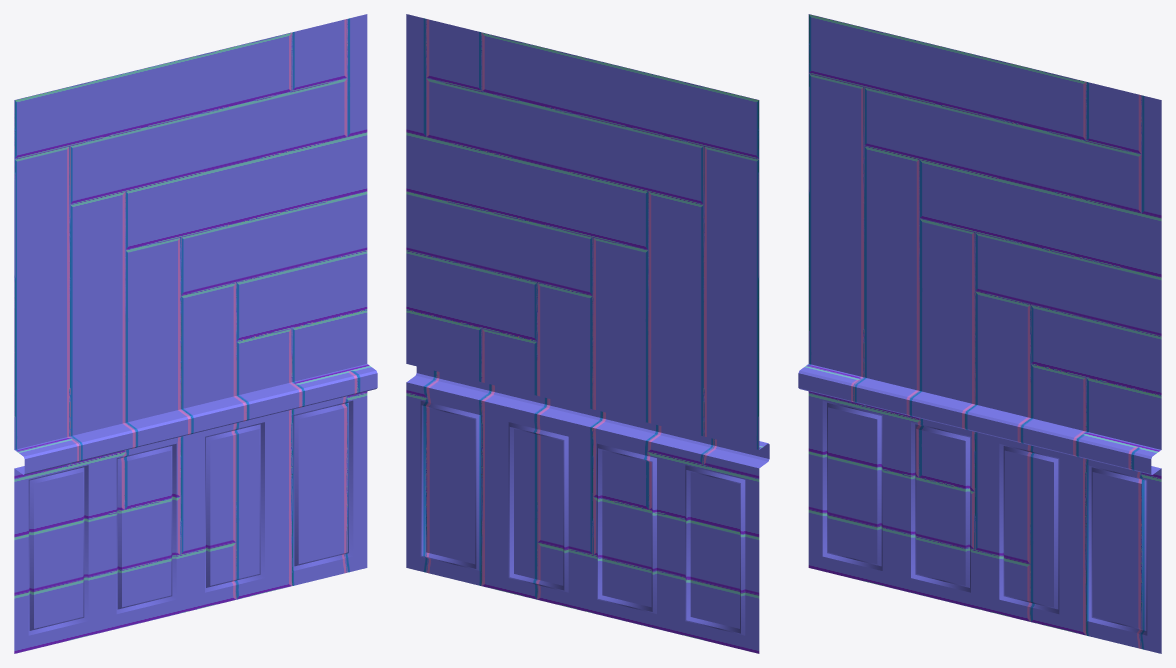
Rendered from Foyer Wall No Border.fbx.
3 views of the same model, side by side, from view 1: azimuth 30°, elevation 25°; view 2: azimuth 150°, elevation 25°; view 3: azimuth 330°, elevation 25° (orthographic).
Visible parts, largest first — view 1: Normal_Wall_No_Border; view 2: Normal_Wall_No_Border; view 3: Normal_Wall_No_Border.
Boxes of the visible parts, box(x1,y1,x2,y2) form: Normal_Wall_No_Border: box(14, 14, 377, 653); Normal_Wall_No_Border: box(406, 14, 769, 653); Normal_Wall_No_Border: box(798, 14, 1161, 653).
Size of the model in its own units: 200 by 300 by 11.67.
